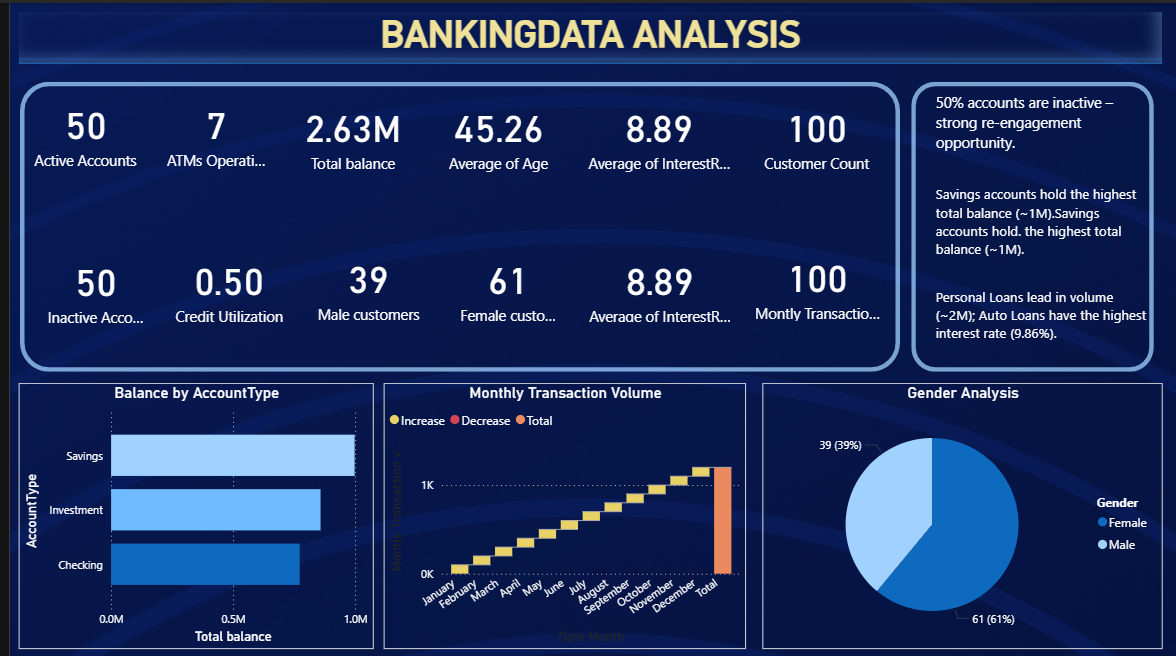

What the dashboard file says about the page in this screenshot:
{"tool":"powerbi","page":{"name":"Page 1","canvas":[1280,720],"ordinal":0},"visuals":[{"type":"card","fields":{"Values":["Accounts.Active Accounts"]},"box":[11,89.2,144.1,105.7],"z":0},{"type":"card","fields":{"Values":["ATMs.ATMs Operational"]},"box":[163.3,89.2,126.2,105.7],"z":1000},{"type":"card","fields":{"Values":["Accounts.Total balance"]},"box":[307.4,93.3,138.6,104.3],"z":2000},{"type":"card","fields":{"Values":["Accounts.Inactive Accounts"]},"box":[32.9,266.2,122.1,94.7],"z":3000},{"type":"card","fields":{"Values":["Customers.Customer Count"]},"box":[816.5,94.7,138.6,100.2],"z":4000},{"type":"card","fields":{"Values":["CreditCards.Credit Utilization"]},"box":[155.1,266.2,163.3,93.3],"z":5000},{"type":"card","fields":{"Values":["Customers.Male customers"]},"box":[318.4,262.1,150.9,97.4],"z":6000},{"type":"card","fields":{"Values":["Customers.Female customers"]},"box":[484.4,260.7,124.9,98.8],"z":7000},{"type":"card","fields":{"Values":["Avg(Customers.Age)"]},"box":[463.8,94.7,145.5,100.2],"z":8000},{"type":"card","fields":{"Values":["Avg(Loans.InterestRate)"]},"box":[627.1,94.7,171.5,100.2],"z":9000},{"type":"card","fields":{"Values":["Transactions.Montly Transaction volume"]},"box":[811,264.8,150.9,89.2],"z":10000},{"type":"card","fields":{"Values":["Avg(Loans.InterestRate)"]},"box":[625.7,264.8,172.9,85.1],"z":11000},{"type":"barChart","title":" Balance by AccountType","fields":{"Category":["Accounts.AccountType"],"Y":["Accounts.Total balance"]},"box":[9.6,417.2,389.7,292.3],"z":12000},{"type":"pieChart","title":"Gender Analysis","fields":{"Category":["Customers.Gender"],"Y":["Customers.Customer Count"]},"box":[826.1,417.2,439.1,292.3],"z":13000},{"type":"waterfallChart","title":"Monthly Transaction Volume","fields":{"Y":["Transactions.Montly Transaction volume"],"Category":["Date.Date.Variation.Date Hierarchy.Month"]},"box":[410.3,417.2,397.9,292.3],"z":14000},{"type":"shape","box":[989.4,86.4,266.2,318.4],"z":15000},{"type":"shape","title":"BANKINGDATA ANALYSIS","box":[9.6,9.6,1255.6,57.6],"z":16000},{"type":"shape","box":[9.6,86.4,966,318.4],"z":17000},{"type":"textbox","box":[1011.3,93.3,244.3,87.8],"z":18000},{"type":"textbox","box":[1011.3,194.9,244.3,100.2],"z":19000},{"type":"textbox","box":[1011.3,307.4,244.3,71.4],"z":20000}]}

Visuals, with their boxes in screenshot pixels (x1, y1, x2, y2), scaled from the page's 1280x720 canvas onto the 1176x656 screenshot:
card - Accounts.Active Accounts: {"x1": 10, "y1": 81, "x2": 142, "y2": 178}
card - ATMs.ATMs Operational: {"x1": 150, "y1": 81, "x2": 266, "y2": 178}
card - Accounts.Total balance: {"x1": 282, "y1": 85, "x2": 410, "y2": 180}
card - Accounts.Inactive Accounts: {"x1": 30, "y1": 243, "x2": 142, "y2": 329}
card - Customers.Customer Count: {"x1": 750, "y1": 86, "x2": 877, "y2": 178}
card - CreditCards.Credit Utilization: {"x1": 142, "y1": 243, "x2": 293, "y2": 328}
card - Customers.Male customers: {"x1": 293, "y1": 239, "x2": 431, "y2": 328}
card - Customers.Female customers: {"x1": 445, "y1": 238, "x2": 560, "y2": 328}
card - Avg(Customers.Age): {"x1": 426, "y1": 86, "x2": 560, "y2": 178}
card - Avg(Loans.InterestRate): {"x1": 576, "y1": 86, "x2": 734, "y2": 178}
card - Transactions.Montly Transaction volume: {"x1": 745, "y1": 241, "x2": 884, "y2": 323}
card - Avg(Loans.InterestRate): {"x1": 575, "y1": 241, "x2": 734, "y2": 319}
" Balance by AccountType" barChart: {"x1": 9, "y1": 380, "x2": 367, "y2": 646}
"Gender Analysis" pieChart: {"x1": 759, "y1": 380, "x2": 1162, "y2": 646}
"Monthly Transaction Volume" waterfallChart: {"x1": 377, "y1": 380, "x2": 743, "y2": 646}
shape: {"x1": 909, "y1": 79, "x2": 1154, "y2": 369}
"BANKINGDATA ANALYSIS" shape: {"x1": 9, "y1": 9, "x2": 1162, "y2": 61}
shape: {"x1": 9, "y1": 79, "x2": 896, "y2": 369}
textbox: {"x1": 929, "y1": 85, "x2": 1154, "y2": 165}
textbox: {"x1": 929, "y1": 178, "x2": 1154, "y2": 269}
textbox: {"x1": 929, "y1": 280, "x2": 1154, "y2": 345}
